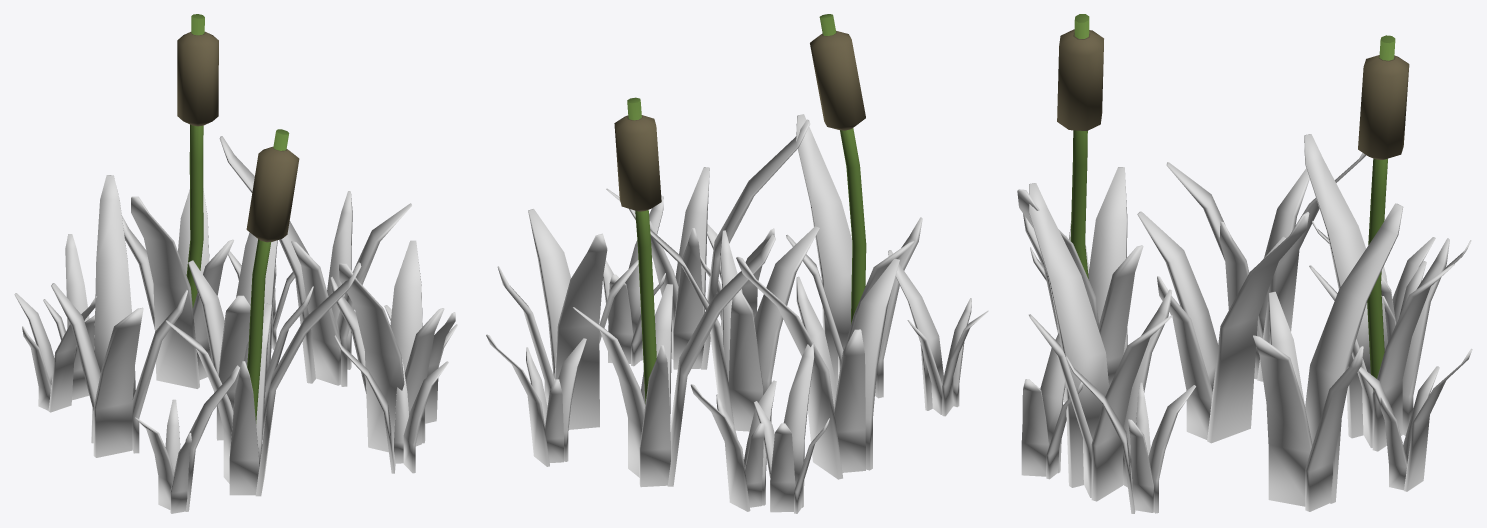
File: RuovikkuKasvanutVer2.fbx
3 views of the same model, side by side, from view 1: azimuth 30°, elevation 25°; view 2: azimuth 150°, elevation 25°; view 3: azimuth 270°, elevation 25° (orthographic). The views are drawn at different scales.
Parts seen in each view (by area): view 1: RuovikkoUmpeutunut2; view 2: RuovikkoUmpeutunut2; view 3: RuovikkoUmpeutunut2.
Part boxes in pixels (box(x1,y1,x2,y2)): RuovikkoUmpeutunut2: box(14, 14, 457, 513); RuovikkoUmpeutunut2: box(486, 14, 988, 513); RuovikkoUmpeutunut2: box(1017, 14, 1472, 513).
Size of the model in its own units: 1.83 by 1.81 by 1.89.
